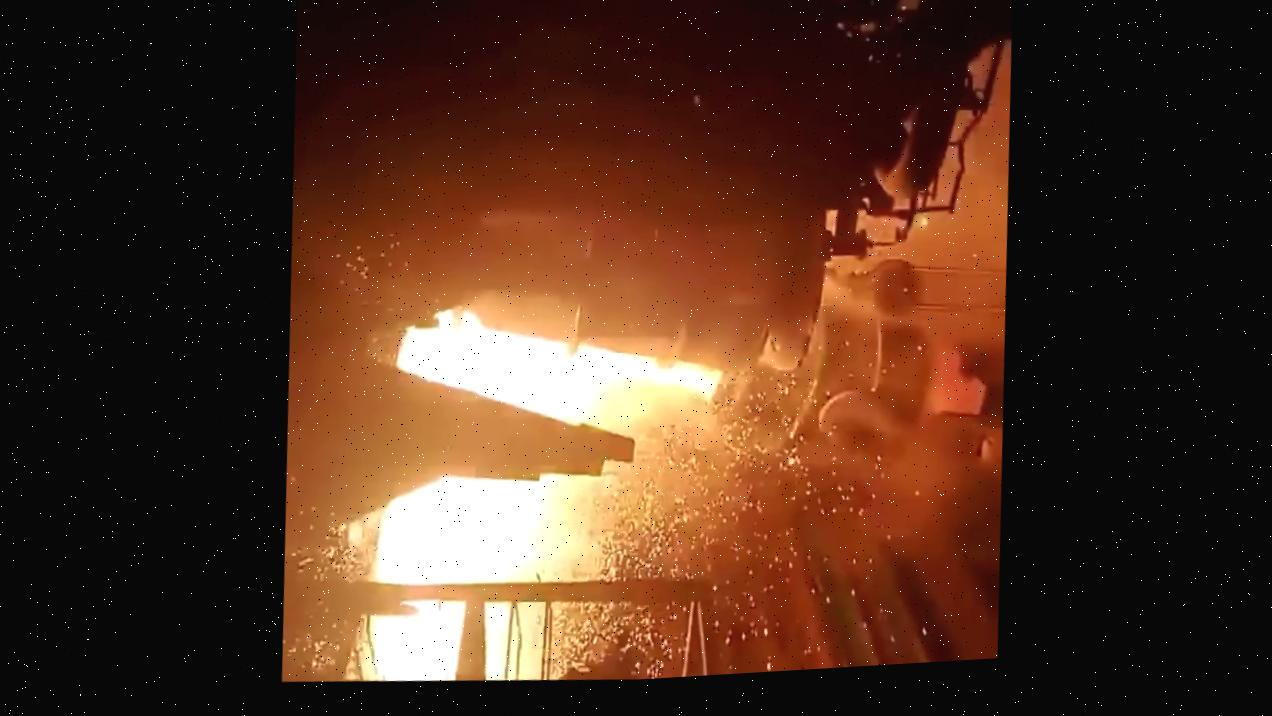fire: (319, 257, 953, 666)
